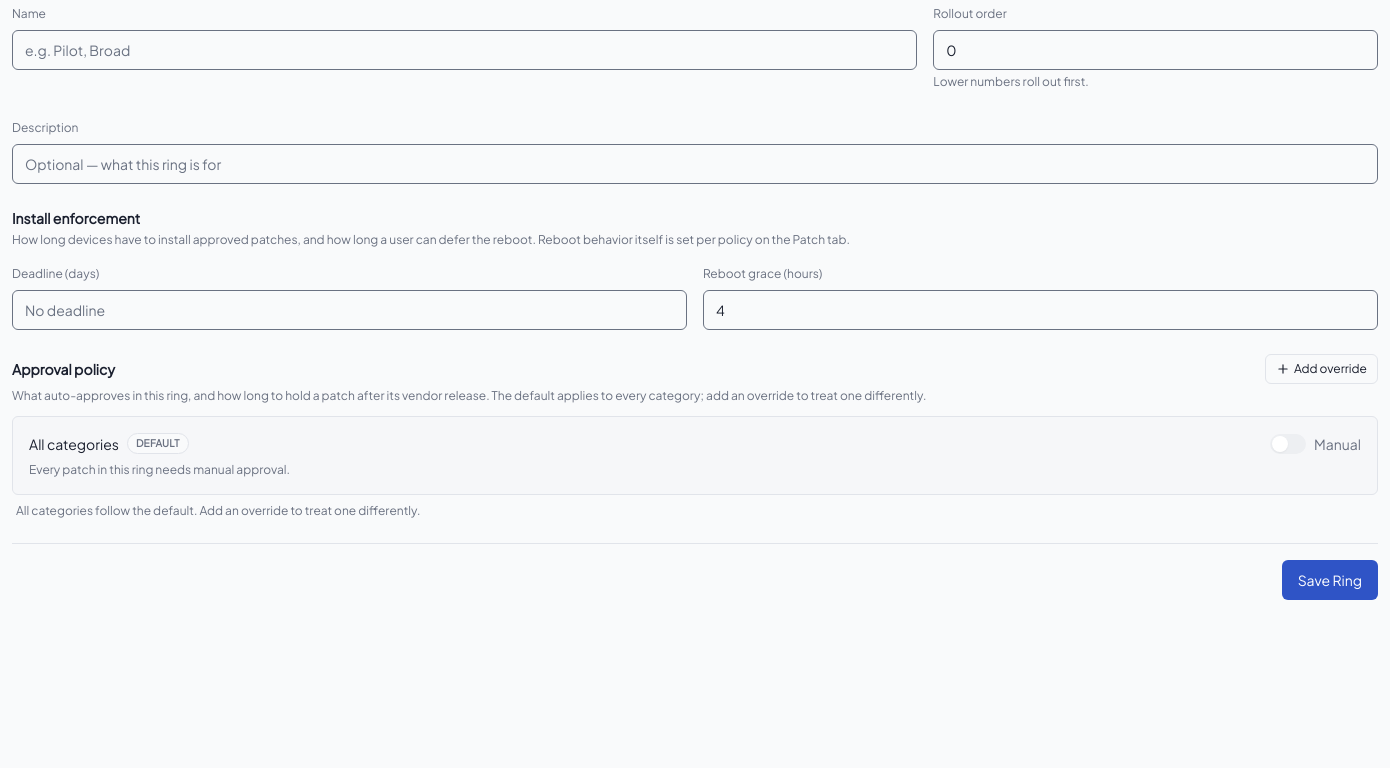
Scenario: UpdateRingForm — ring auto-approve (#1317) › blocks submit when auto-approve is enabled with no severities (fail-closed)
Type "Pilot" into the field with placeholder "e.g. Pilot, Broad" at (465, 50), box x1=12 y1=30 x2=917 y2=70
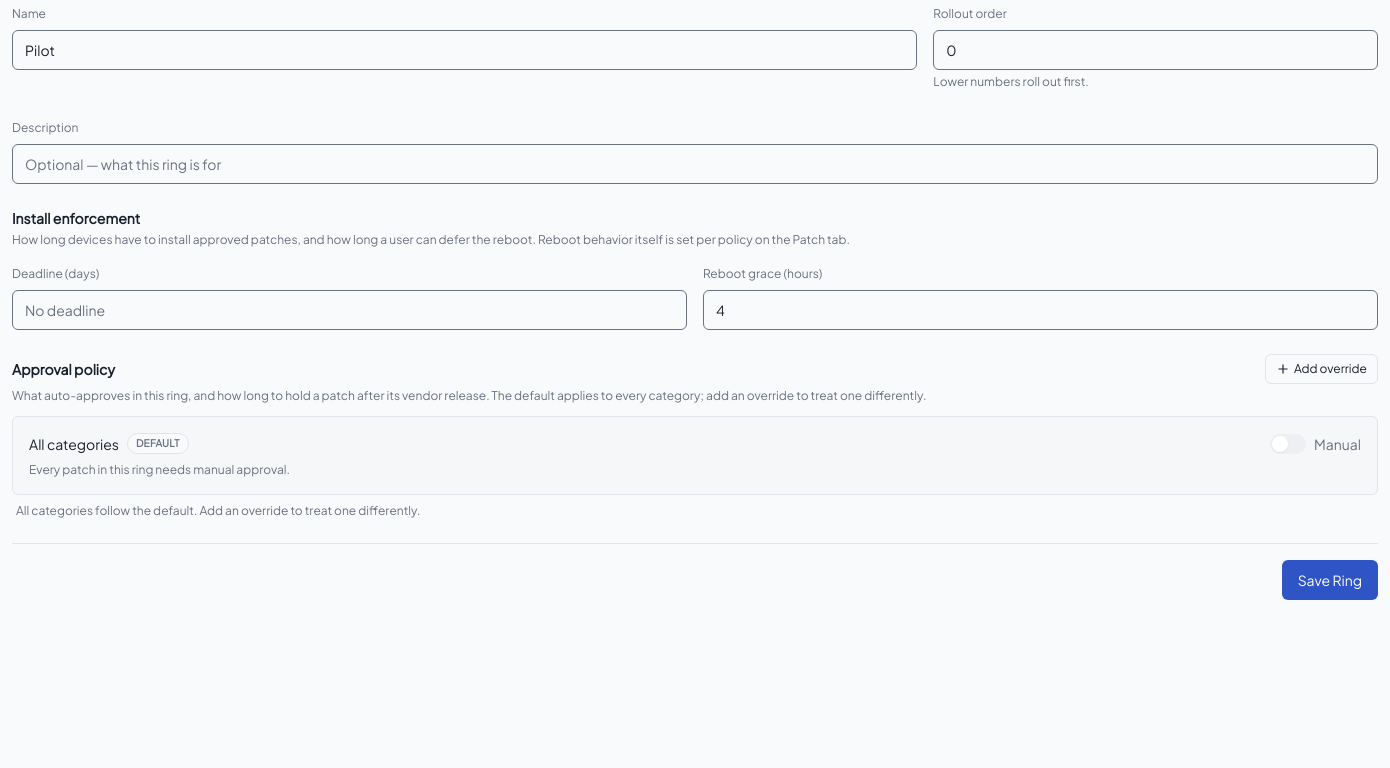
Click the checkbox with test id "ring-auto-approve-enabled" at (1316, 444), box x1=1270 y1=434 x2=1361 y2=454
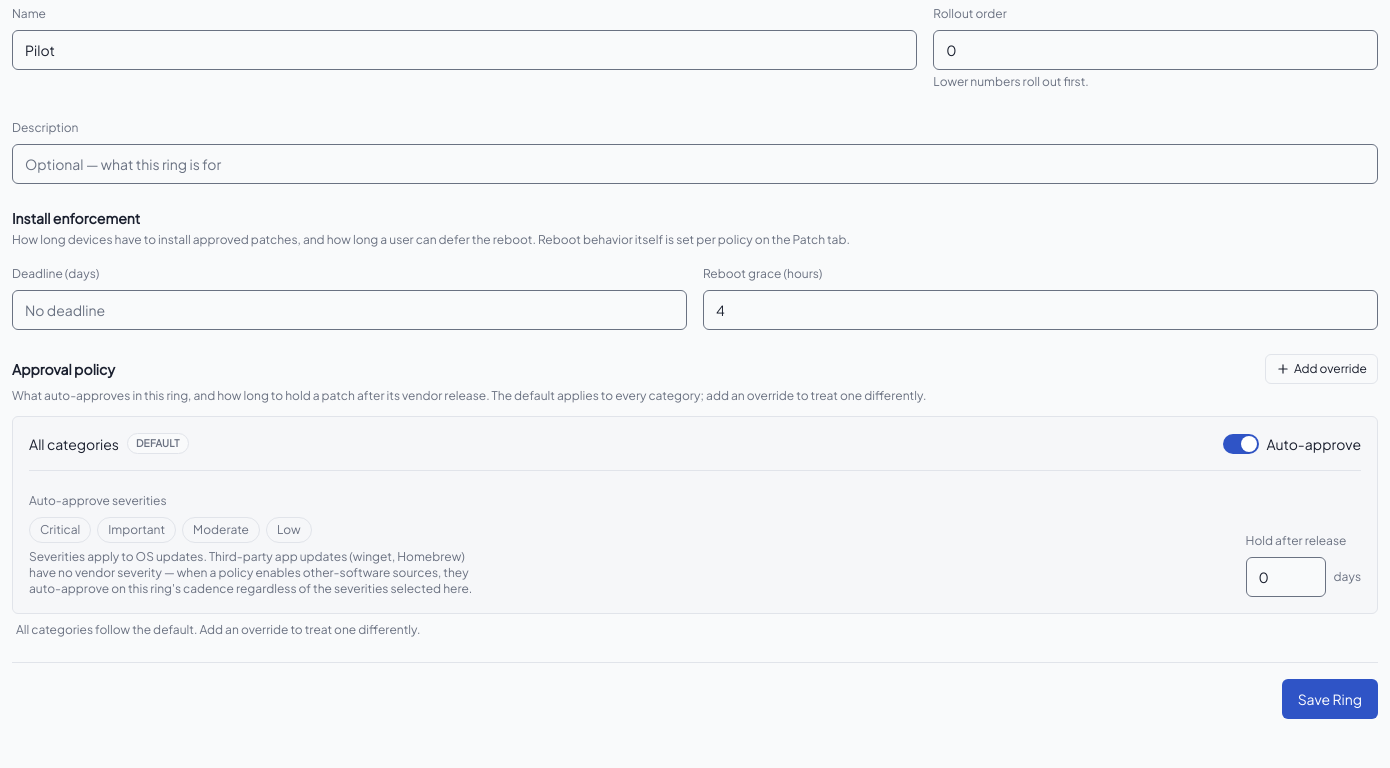
Click the button "Save Ring" at (1330, 699), box x1=1282 y1=679 x2=1378 y2=719
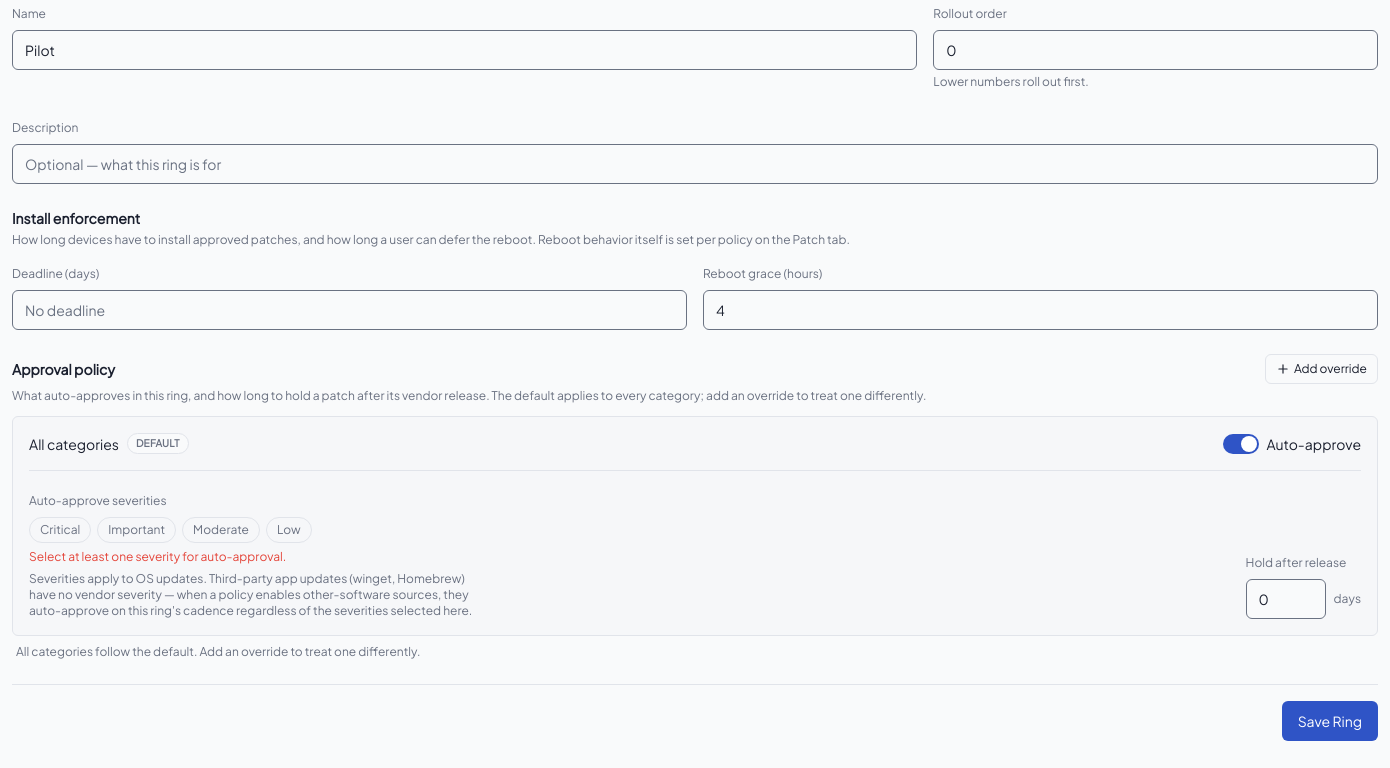
Result: the text "Select at least one severity for auto-approval." is shown at x1=29 y1=549 x2=286 y2=564
